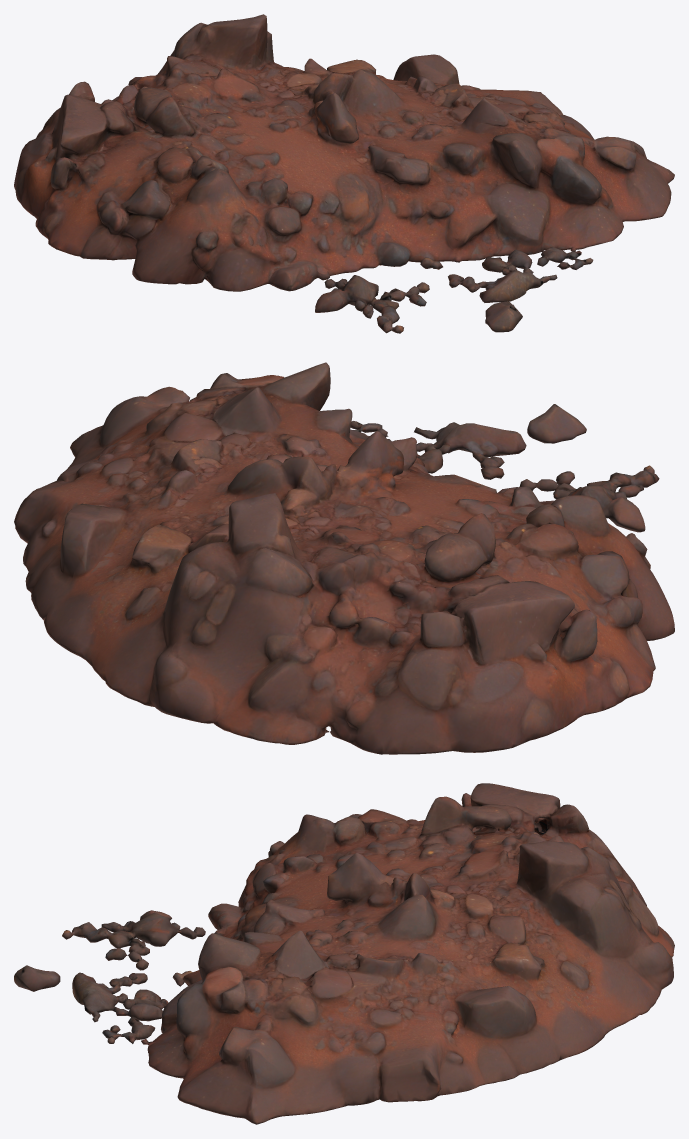
File: Iron Ore 1.fbx
3 renders of one model, top to bottom at view 1: azimuth 30°, elevation 25°; view 2: azimuth 150°, elevation 25°; view 3: azimuth 270°, elevation 25°, orthographic. The views are drawn at different scales.
Visible parts, largest first — view 1: Mesh_0; view 2: Mesh_0; view 3: Mesh_0.
Boxes of the visible parts, x1=… form: Mesh_0: x1=14, y1=14, x2=674, y2=333; Mesh_0: x1=14, y1=362, x2=674, y2=754; Mesh_0: x1=14, y1=783, x2=674, y2=1124.
Size of the model in its own units: 197 by 45.89 by 201.
1 material, 1 textured.
